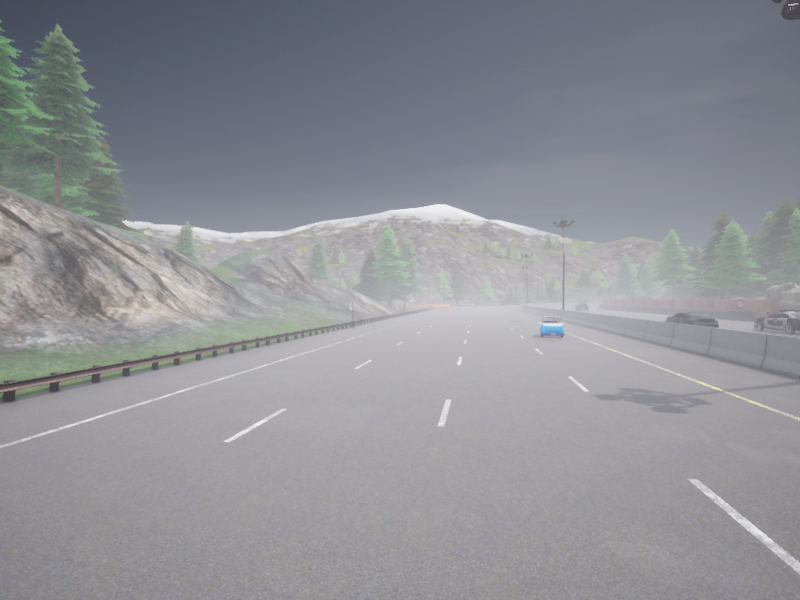vehicle: (755, 310, 799, 333), (664, 312, 718, 327), (539, 316, 563, 337), (575, 302, 588, 310)
